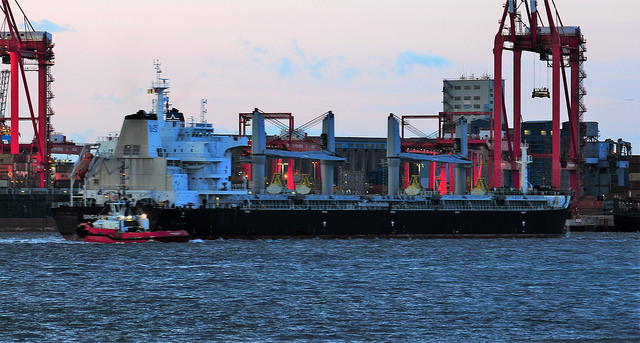bulk carrier: (52, 103, 574, 249)
tug_boat: (75, 186, 198, 246)
